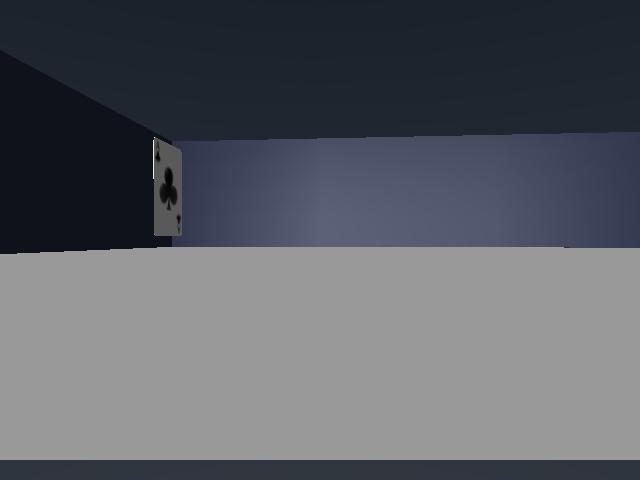club: (153, 138, 181, 235)
